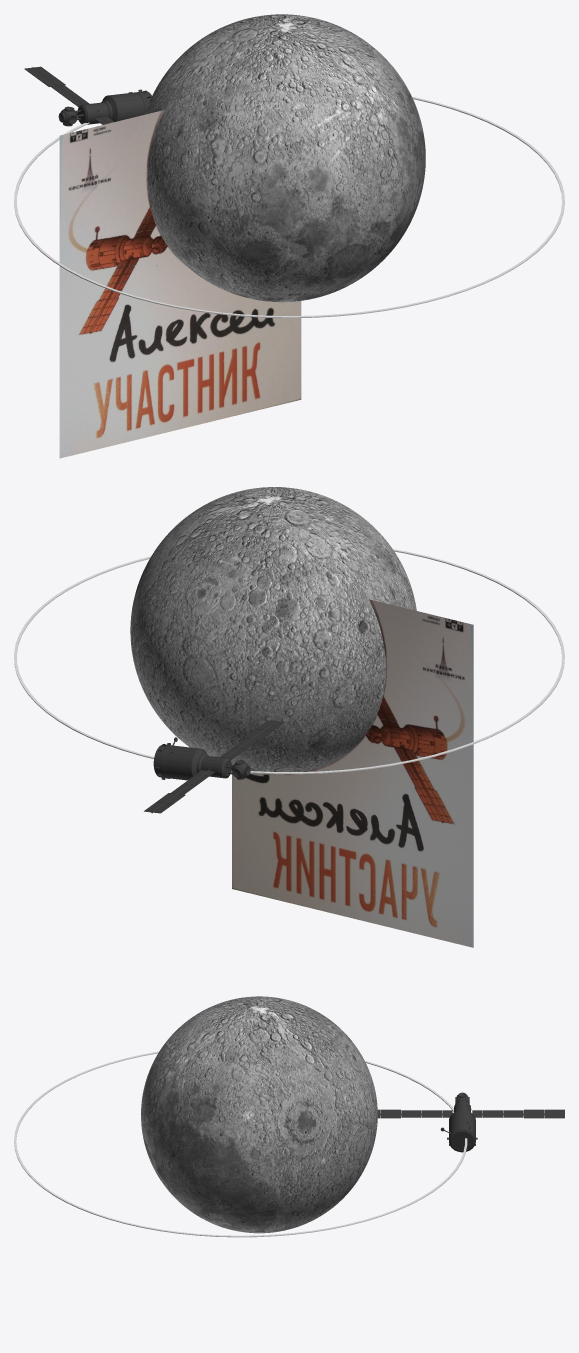
Rendered from sputnikrotate.FBX.
3 renders of one model, top to bottom at view 1: azimuth 30°, elevation 25°; view 2: azimuth 150°, elevation 25°; view 3: azimuth 270°, elevation 25°, orthographic. The views are drawn at different scales.
Visible parts, largest first — view 1: Sphere001, Plane003, Tube001, Cylinder001; view 2: Sphere001, Plane003, Cylinder001, Tube001; view 3: Sphere001, Cylinder001, Tube001.
Part boxes in pixels (bbox=[...]): Sphere001: bbox=[145, 14, 425, 302]; Plane003: bbox=[59, 110, 301, 458]; Tube001: bbox=[14, 96, 564, 318]; Cylinder001: bbox=[24, 66, 151, 126]; Sphere001: bbox=[130, 487, 416, 774]; Plane003: bbox=[232, 599, 473, 947]; Cylinder001: bbox=[144, 720, 284, 813]; Tube001: bbox=[14, 549, 564, 774]; Sphere001: bbox=[141, 996, 377, 1233]; Cylinder001: bbox=[377, 1092, 564, 1152]; Tube001: bbox=[14, 1051, 467, 1237].
Bounding box in the file's own units: 26.56 × 20.62 × 32.28.
3 materials, 2 textured.
